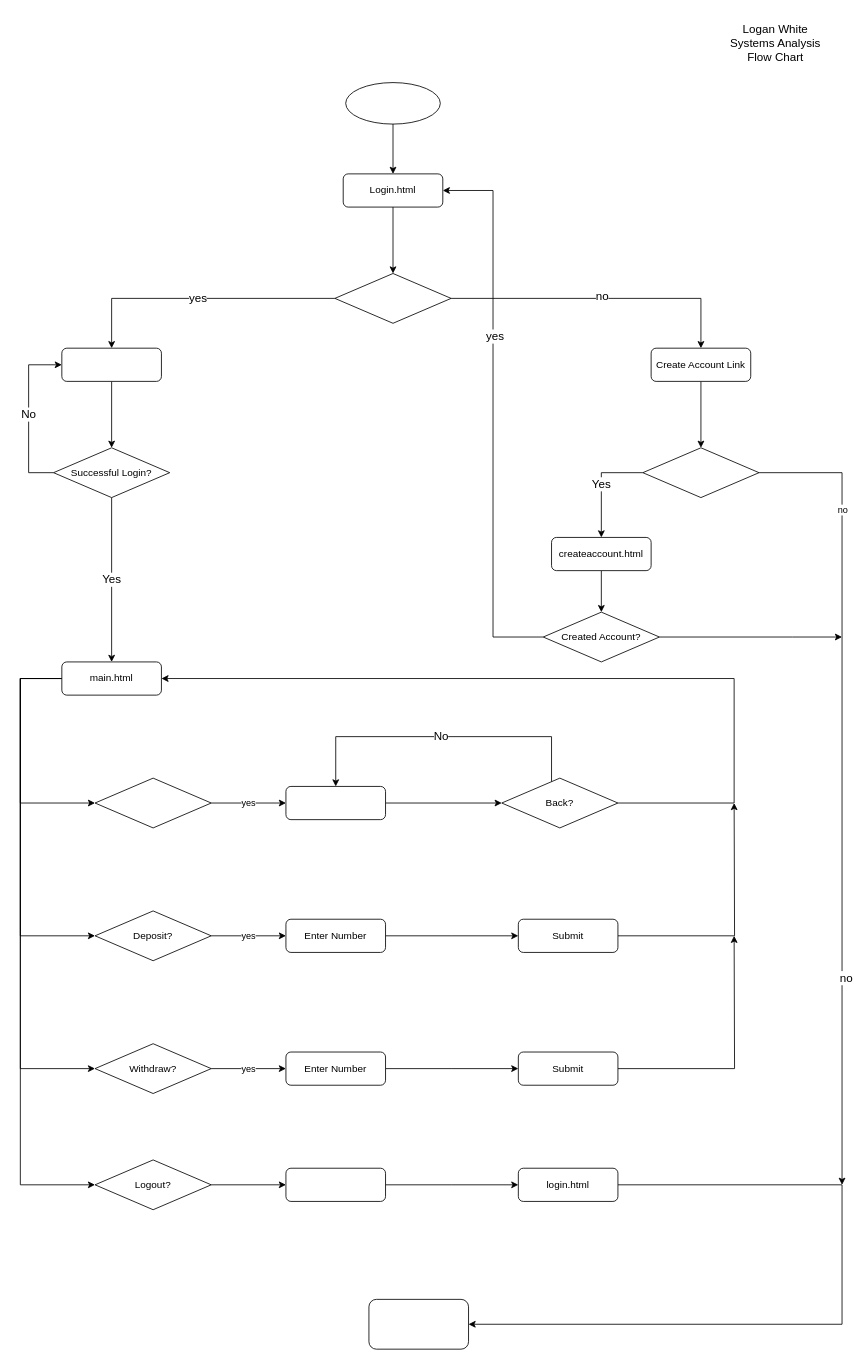
Image size: 867x1364. Some labels were removed from this diagram. The shapes that lost their labels are listed below. From the top down, each one's centre as x and y in pixels, then its label:
(392,103): Begin
(392,298): Have Account?
(111,364): Fill Out Login Form and clicked submit
(700,472): Clicked?
(152,802): Clicked About?
(335,803): about.html
(335,1184): logoutbutton
(418,1324): Stop
